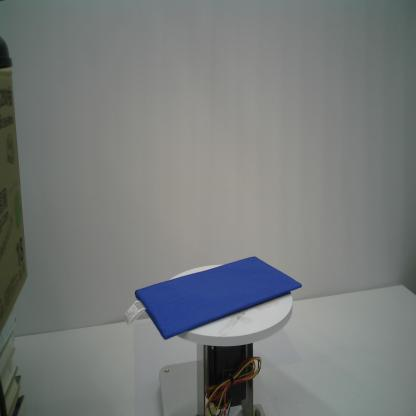Stationery: (123, 254, 304, 345)
